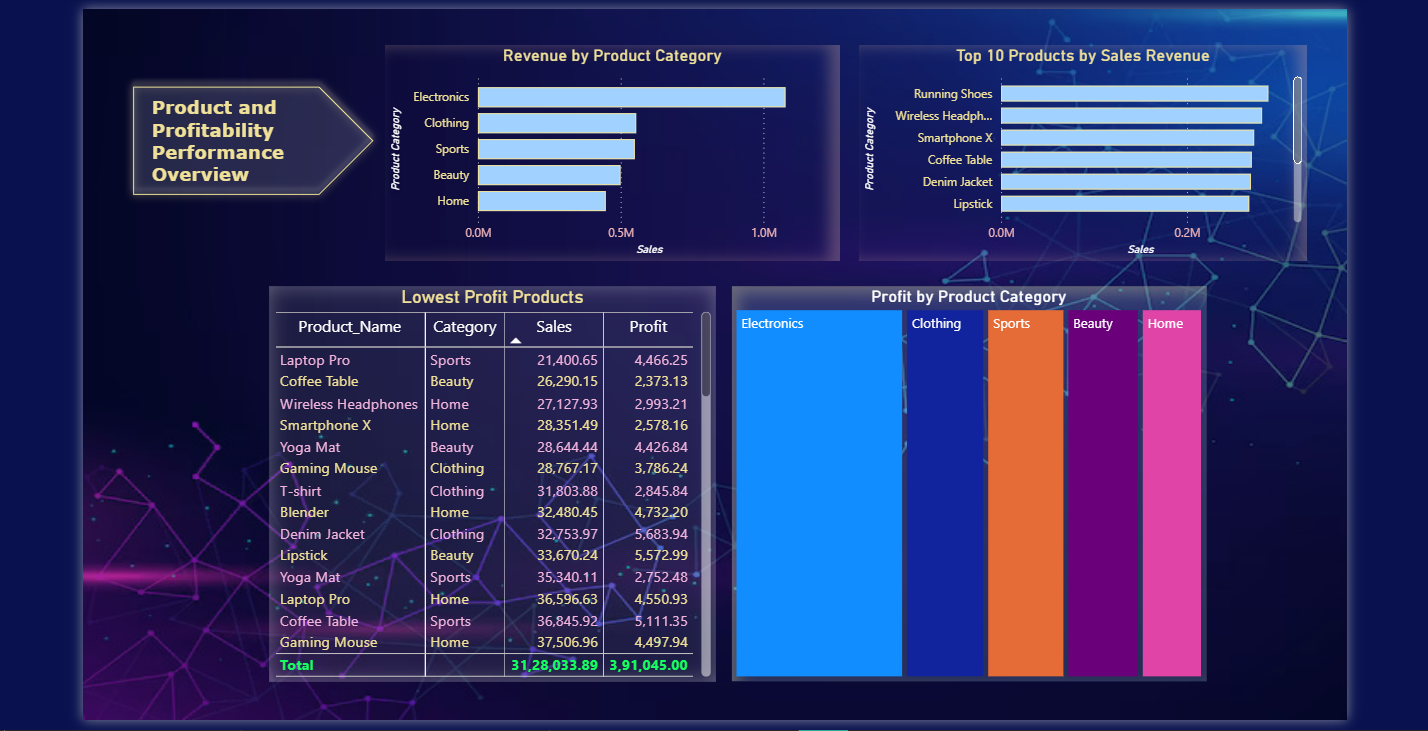

The page's visual inventory and layout, read from the dashboard file:
{"tool":"powerbi","page":{"name":"Product and Profitability Performance","canvas":[1280,720],"ordinal":1},"visuals":[{"type":"clusteredBarChart","title":"Revenue by Product Category","fields":{"Y":["Sum(Sheet1.Sales)"],"Category":["Sheet1.Category"]},"box":[306.5,36.8,459.7,218.2],"z":0},{"type":"shape","box":[41.7,69.9,261.4,127.6],"z":1000},{"type":"textbox","box":[65,83.4,184.1,112.9],"z":2000},{"type":"clusteredBarChart","title":"Top 10 Products by Sales Revenue","fields":{"Y":["Sum(Sheet1.Sales)"],"Category":["Sheet1.Product_Name"]},"box":[785.7,36.8,453.2,218.2],"z":3000},{"type":"treemap","title":"Profit by Product Category","fields":{"Group":["Sheet1.Category"],"Values":["Sum(Sheet1.Profit)"]},"box":[657.1,280.5,480.5,400],"z":4000},{"type":"tableEx","title":"Lowest Profit Products","fields":{"Values":["Sheet1.Product_Name","Sheet1.Category","Sum(Sheet1.Sales)","Sum(Sheet1.Profit)"]},"box":[188.3,280.5,451.9,400],"z":5000}]}

Visuals, with their boxes on the page's 1280x720 design canvas (x1, y1, x2, y2). These are canvas units, not pixel positions in the 1428x731 screenshot, which may show the page scaled, cropped or inside an application window:
"Revenue by Product Category" clusteredBarChart: bbox(306, 37, 766, 255)
shape: bbox(42, 70, 303, 198)
textbox: bbox(65, 83, 249, 196)
"Top 10 Products by Sales Revenue" clusteredBarChart: bbox(786, 37, 1239, 255)
"Profit by Product Category" treemap: bbox(657, 280, 1138, 680)
"Lowest Profit Products" tableEx: bbox(188, 280, 640, 680)
